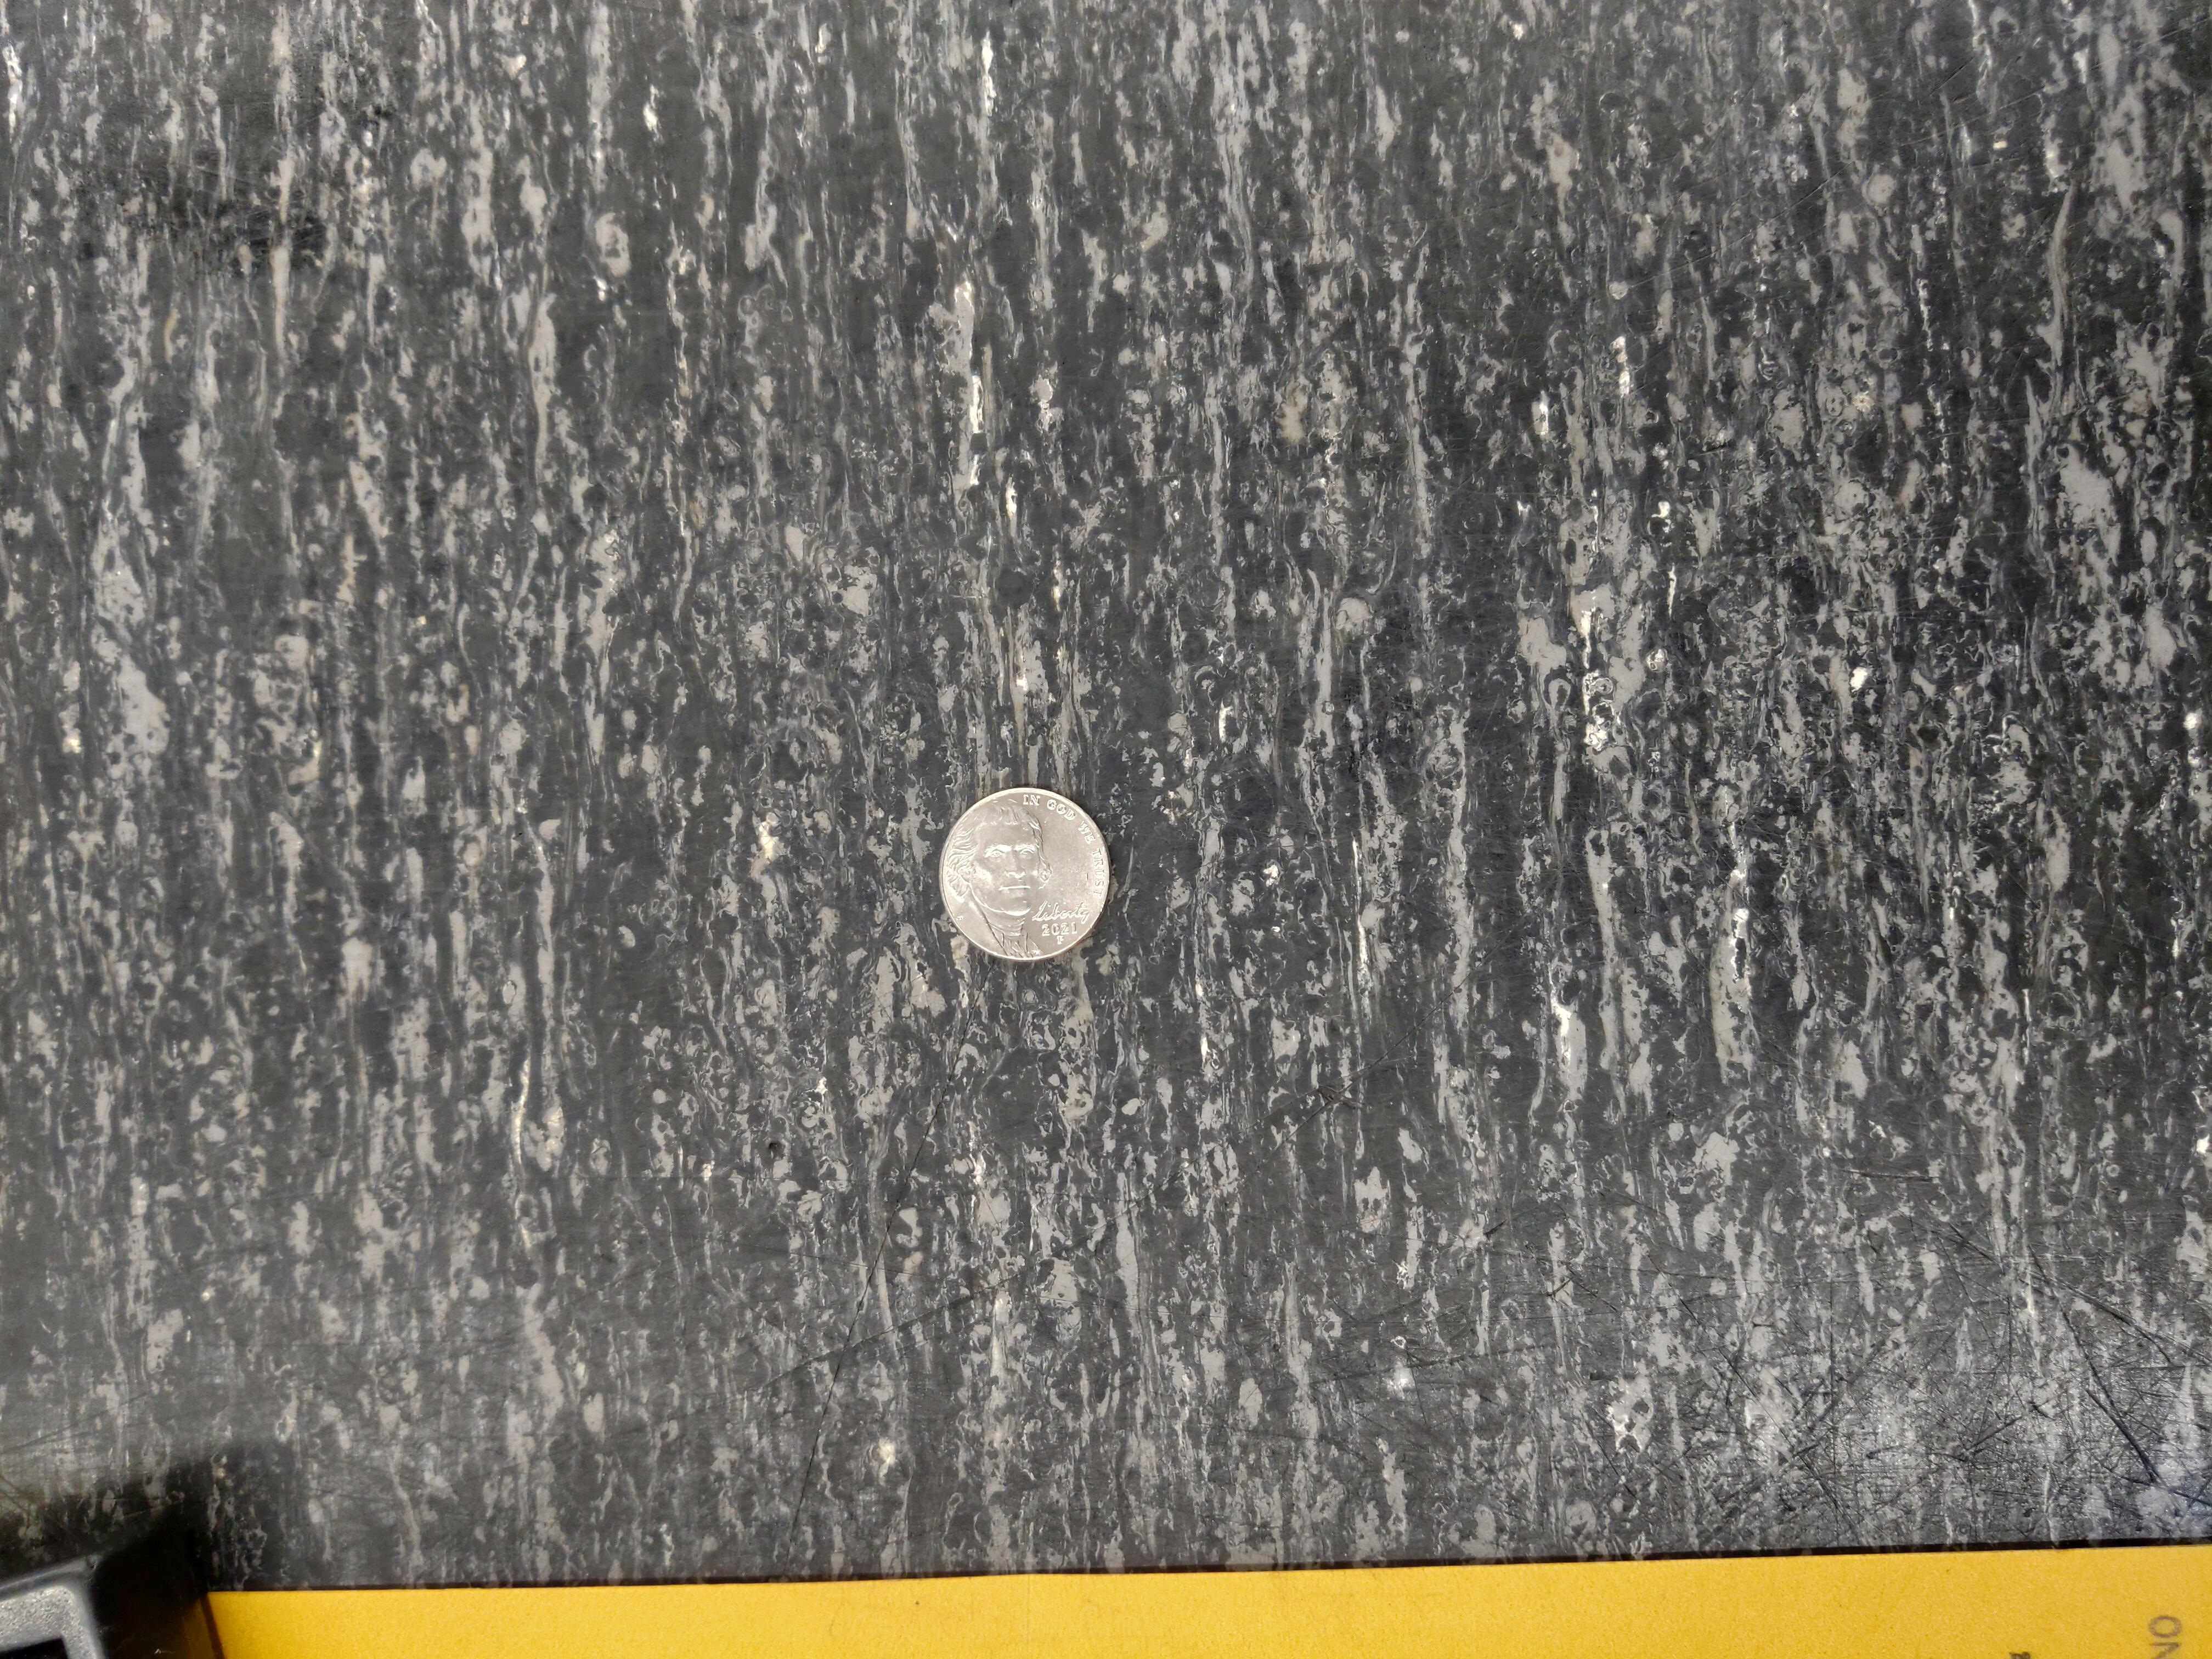Nickel: (937, 784, 1111, 962)
